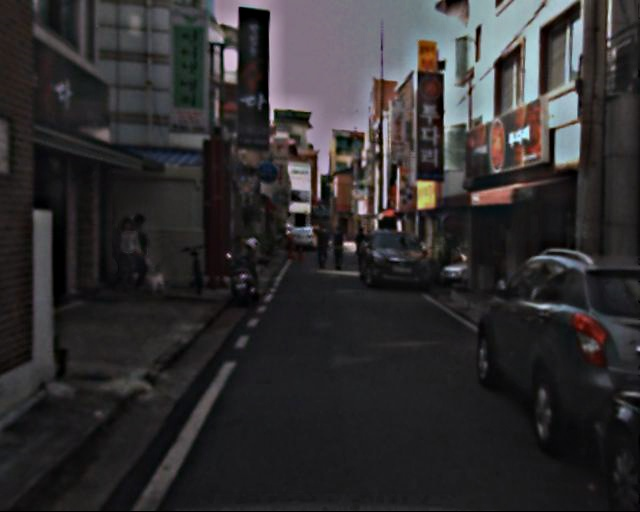person: (112, 209, 150, 290), (127, 212, 160, 285), (316, 226, 334, 269), (332, 227, 350, 270), (352, 228, 369, 270)
